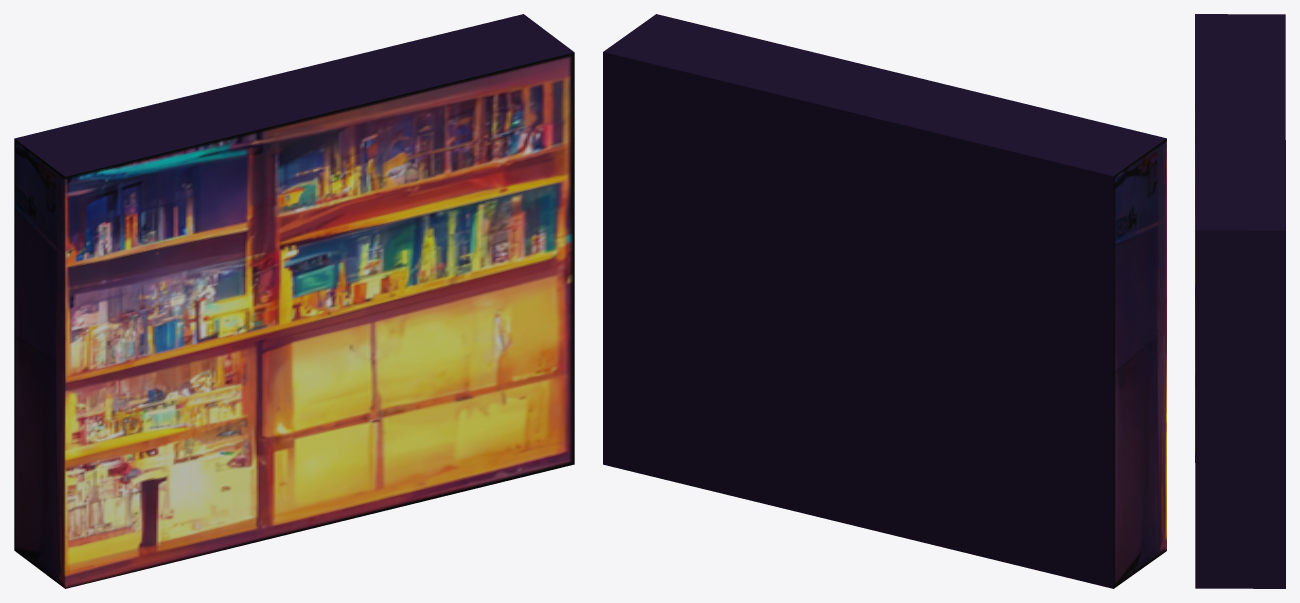
3 renders of one model, left to right at view 1: azimuth 30°, elevation 25°; view 2: azimuth 150°, elevation 25°; view 3: azimuth 270°, elevation 25°, orthographic. The views are drawn at different scales.
Visible parts, largest first — view 1: box3; view 2: box3; view 3: box3.
Boxes of the visible parts, x1=… form: box3: x1=14, y1=14, x2=574, y2=588; box3: x1=603, y1=14, x2=1166, y2=588; box3: x1=1195, y1=14, x2=1285, y2=588.
Bounding box in the file's own units: 33.62 × 25.92 × 5.97.
1 material, 1 textured.
